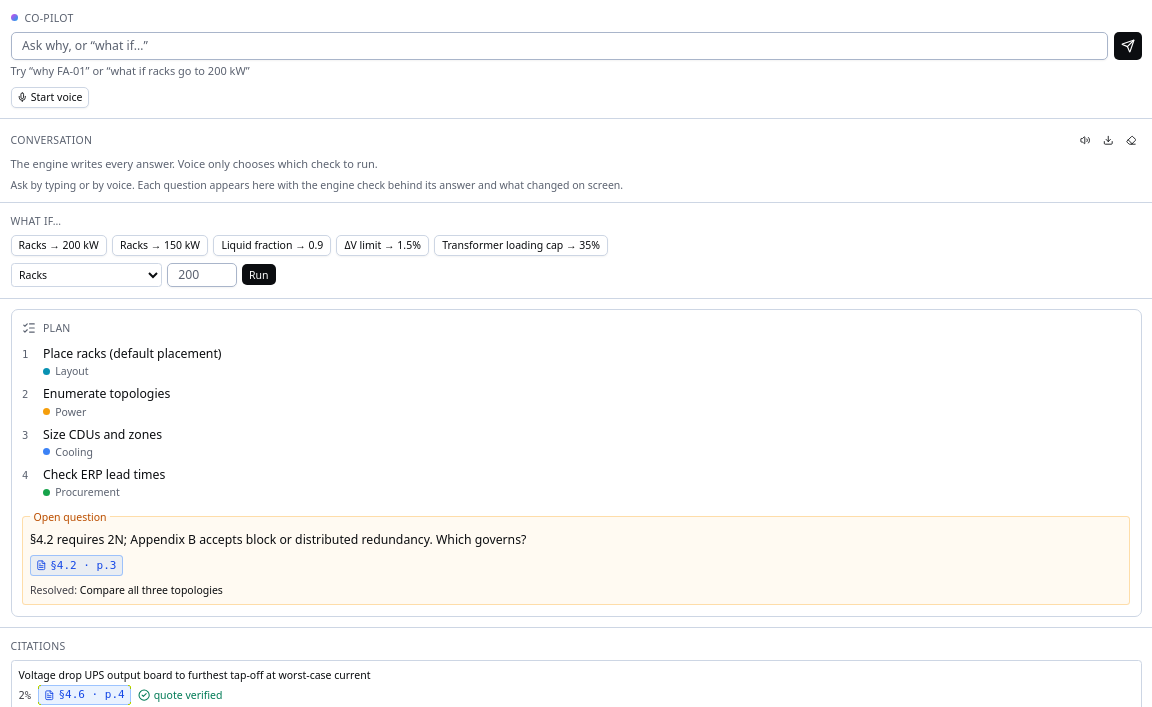
when Gemini Live fails the panel switches to push-to-talk automatically
Click the button "Start voice": (50, 97) top-left (10, 86), bottom-right (89, 108)
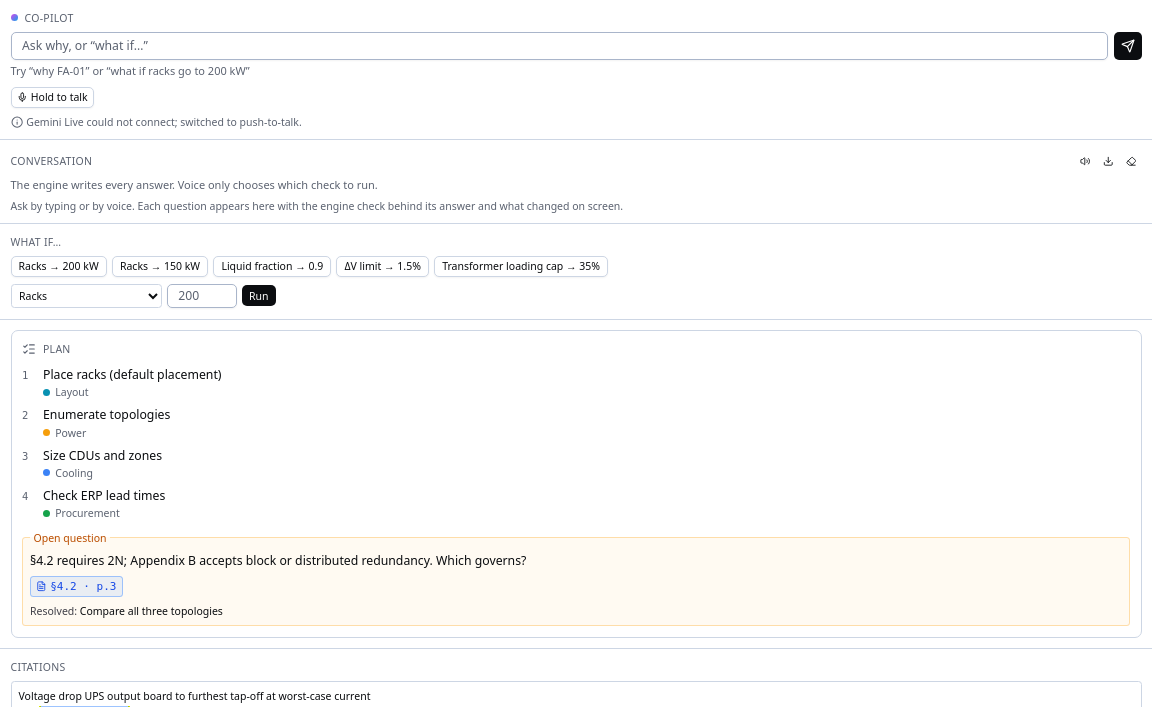
Result: the text "Gemini Live could not connect; switched to push-to-talk." is shown at top-left (10, 114), bottom-right (302, 128)
Result: the button "Hold to talk" is shown at top-left (10, 86), bottom-right (94, 108)
